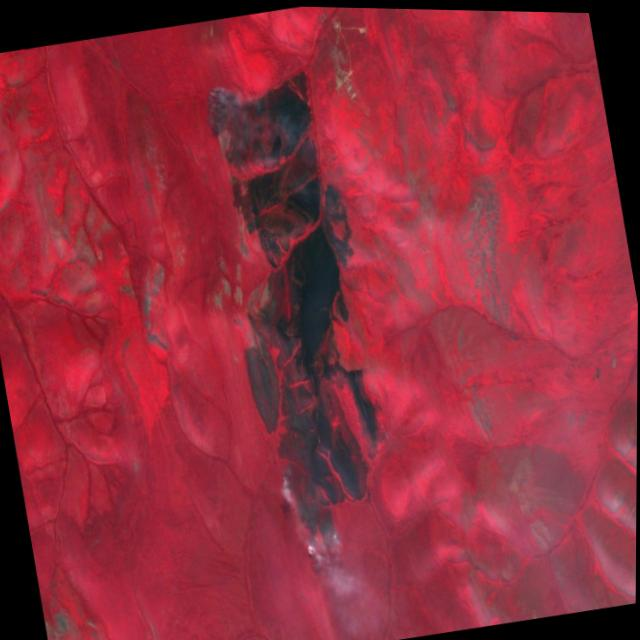fire: (300, 525, 345, 572), (201, 79, 236, 139), (274, 455, 301, 510)
